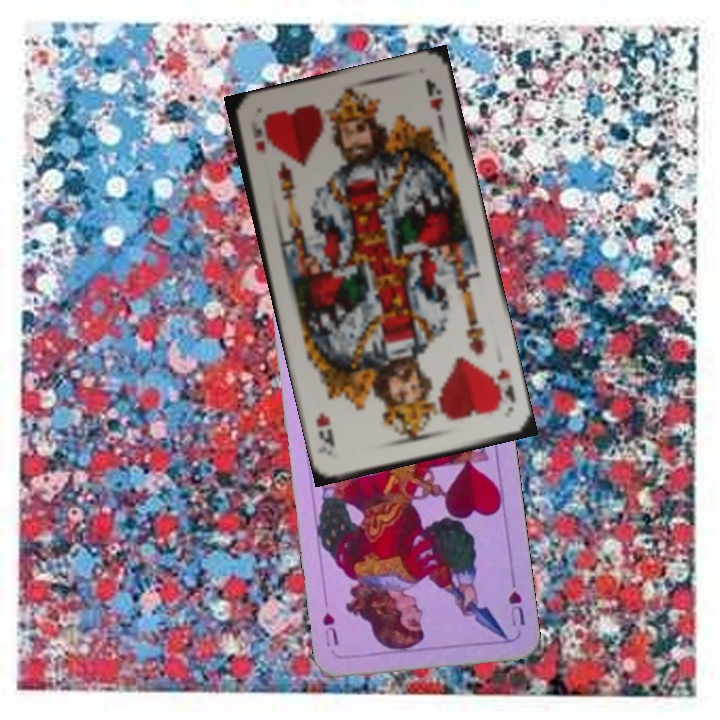HK: (488, 365, 519, 415), (247, 118, 269, 155)
HU: (504, 575, 528, 629)
